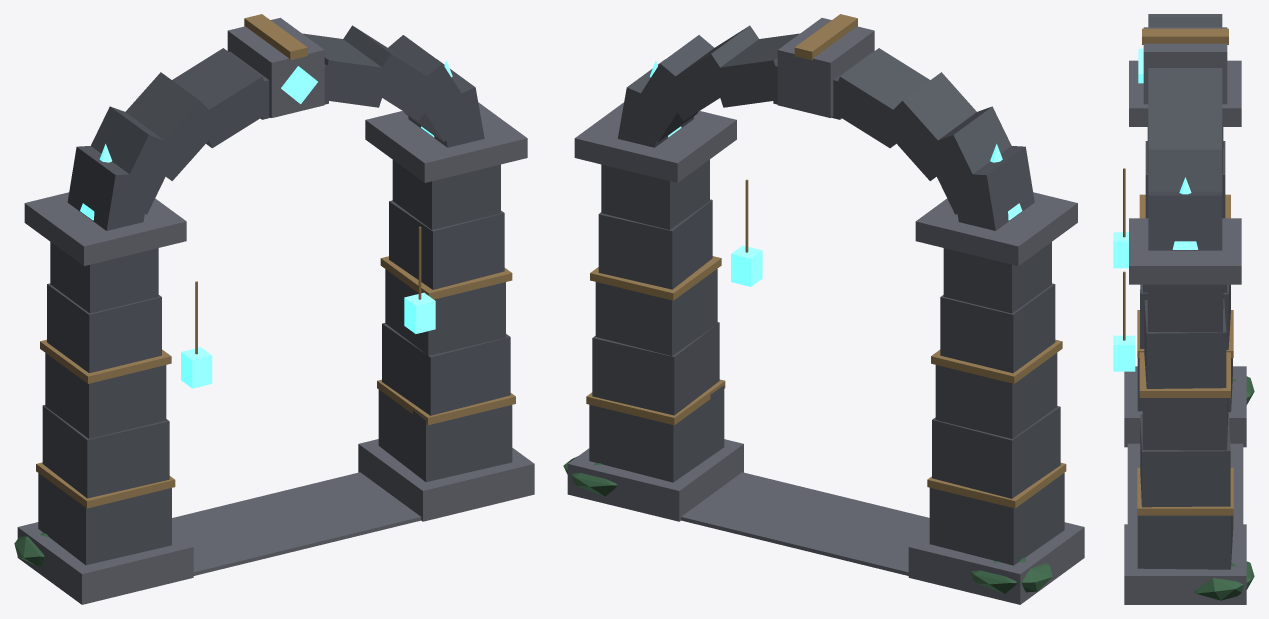
The model's file is elven_gate.glb.
3 renders of one model, left to right at view 1: azimuth 30°, elevation 25°; view 2: azimuth 150°, elevation 25°; view 3: azimuth 270°, elevation 25°, orthographic. The views are drawn at different scales.
Parts seen in each view (by area): view 1: Threshold, Shaft1_0, Shaft1_1, Shaft-1_1, Shaft-1_0, Plinth1, Shaft-1_3, Shaft1_3, Shaft-1_2, Plinth-1, Cap1, Cap-1 (+20 smaller); view 2: Threshold, Shaft1_0, Shaft-1_0, Shaft-1_1, Shaft1_1, Shaft-1_3, Shaft1_3, Shaft1_2, Shaft-1_2, Cap1, Plinth1, Cap-1 (+20 smaller); view 3: Shaft1_1, Cap1, Shaft1_0, Plinth1, Shaft1_3, Shaft1_2, Arch0, Shaft1_4, Arch2, Arch1, Arch3, Keystone (+18 smaller).
Part boxes in pixels (x1,y1,x2,y2): Threshold: (172,472,421,575); Shaft1_0: (378,389,512,482); Shaft1_1: (382,323,510,415); Shaft-1_1: (42,405,169,498); Shaft-1_0: (38,473,171,565); Plinth1: (358,439,534,521); Shaft-1_3: (47,283,161,373); Shaft1_3: (389,200,504,289); Shaft-1_2: (45,353,166,438); Plinth-1: (17,522,193,604); Cap1: (365,102,527,182); Cap-1: (24,192,186,265); Threshold: (681,472,929,575); Shaft1_0: (589,385,724,482); Shaft-1_0: (929,473,1064,565); Shaft-1_1: (932,406,1060,498); Shaft1_1: (592,322,719,415); Shaft-1_3: (940,283,1055,373); Shaft1_3: (598,199,712,289); Shaft1_2: (595,269,717,355); Shaft-1_2: (935,353,1057,438); Cap1: (574,102,736,182); Plinth1: (567,439,743,521); Cap-1: (915,192,1077,266); Shaft1_1: (1140,413,1230,507); Cap1: (1129,218,1241,284); Shaft1_0: (1137,515,1233,569); Plinth1: (1124,524,1246,604); Shaft1_3: (1144,299,1226,388); Shaft1_2: (1142,398,1228,450); Arch0: (1148,191,1222,250); Shaft1_4: (1147,284,1223,332); Arch2: (1148,105,1222,149); Arch1: (1148,149,1222,191); Arch3: (1148,68,1222,105); Keystone: (1143,27,1227,104).
Bounding box in the file's own units: 8.14 × 8.02 × 2.2.
